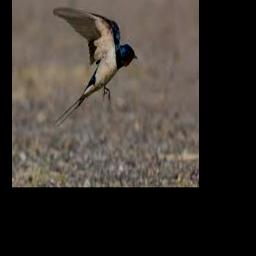Swallow: (53, 6, 138, 126)
